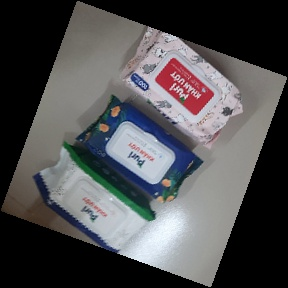Puri Trang: (30, 140, 158, 256)
Puri Xanh: (75, 93, 207, 206)
Puri hong: (117, 25, 244, 149)
